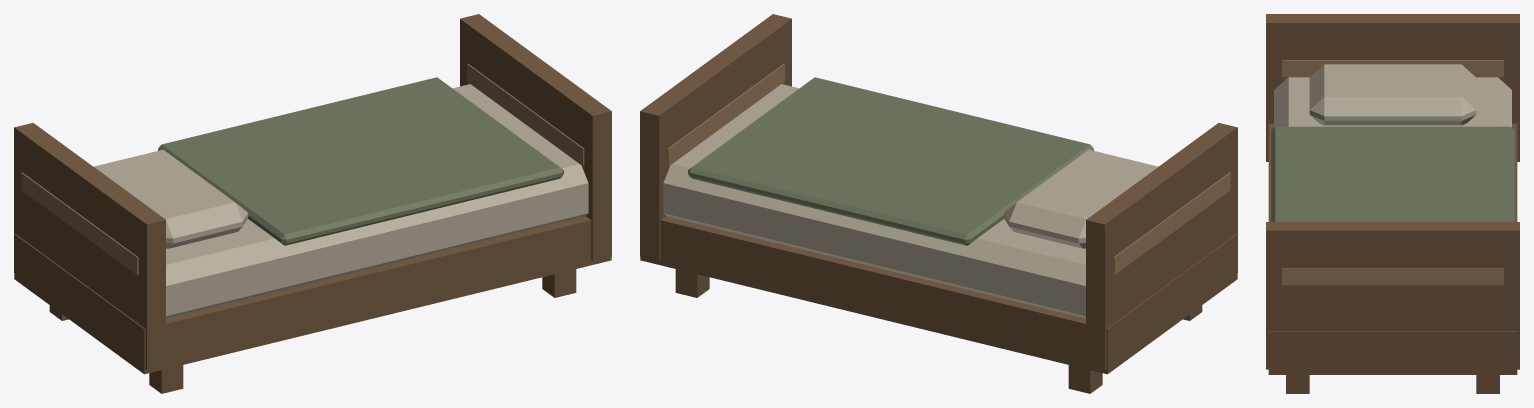
The model's file is home_bed.glb.
The picture shows the model from 3 angles, left to right: view 1: azimuth 30°, elevation 25°; view 2: azimuth 150°, elevation 25°; view 3: azimuth 270°, elevation 25°; orthographic projection. The views are drawn at different scales.
Parts seen in each view (by area): view 1: home_bed; view 2: home_bed; view 3: home_bed.
Part boxes in pixels (<box>): home_bed: <box>14,14,611,393</box>; home_bed: <box>640,14,1237,393</box>; home_bed: <box>1266,14,1519,393</box>.
Bounding box in the file's own units: 1.95 × 0.73 × 0.96.
